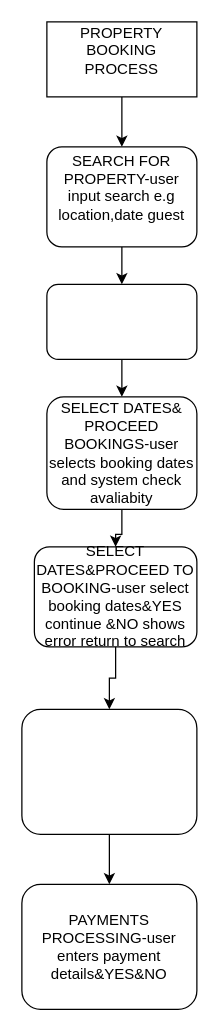
The diagram is 219 pixels wide and 1031 high, and some of its shapes have lost their labels. The shapes that lost their labels are listed below. From the top down, each one's centre as x and y in pixels, then its label:
(121,321): VIEW PROPERTY DETAILS-user select a propperty eg avalability,pricing
(109,771): ENTER BOOKING INFORMATION-user enter guest information&preferences
